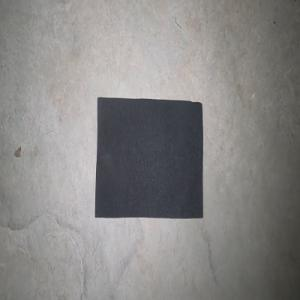PaintChip: (94, 97, 203, 219)
